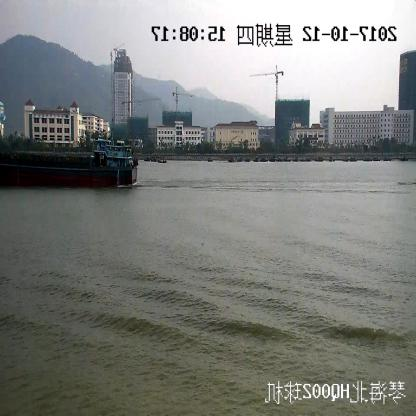Bulk Carrier: (0, 139, 138, 189)
